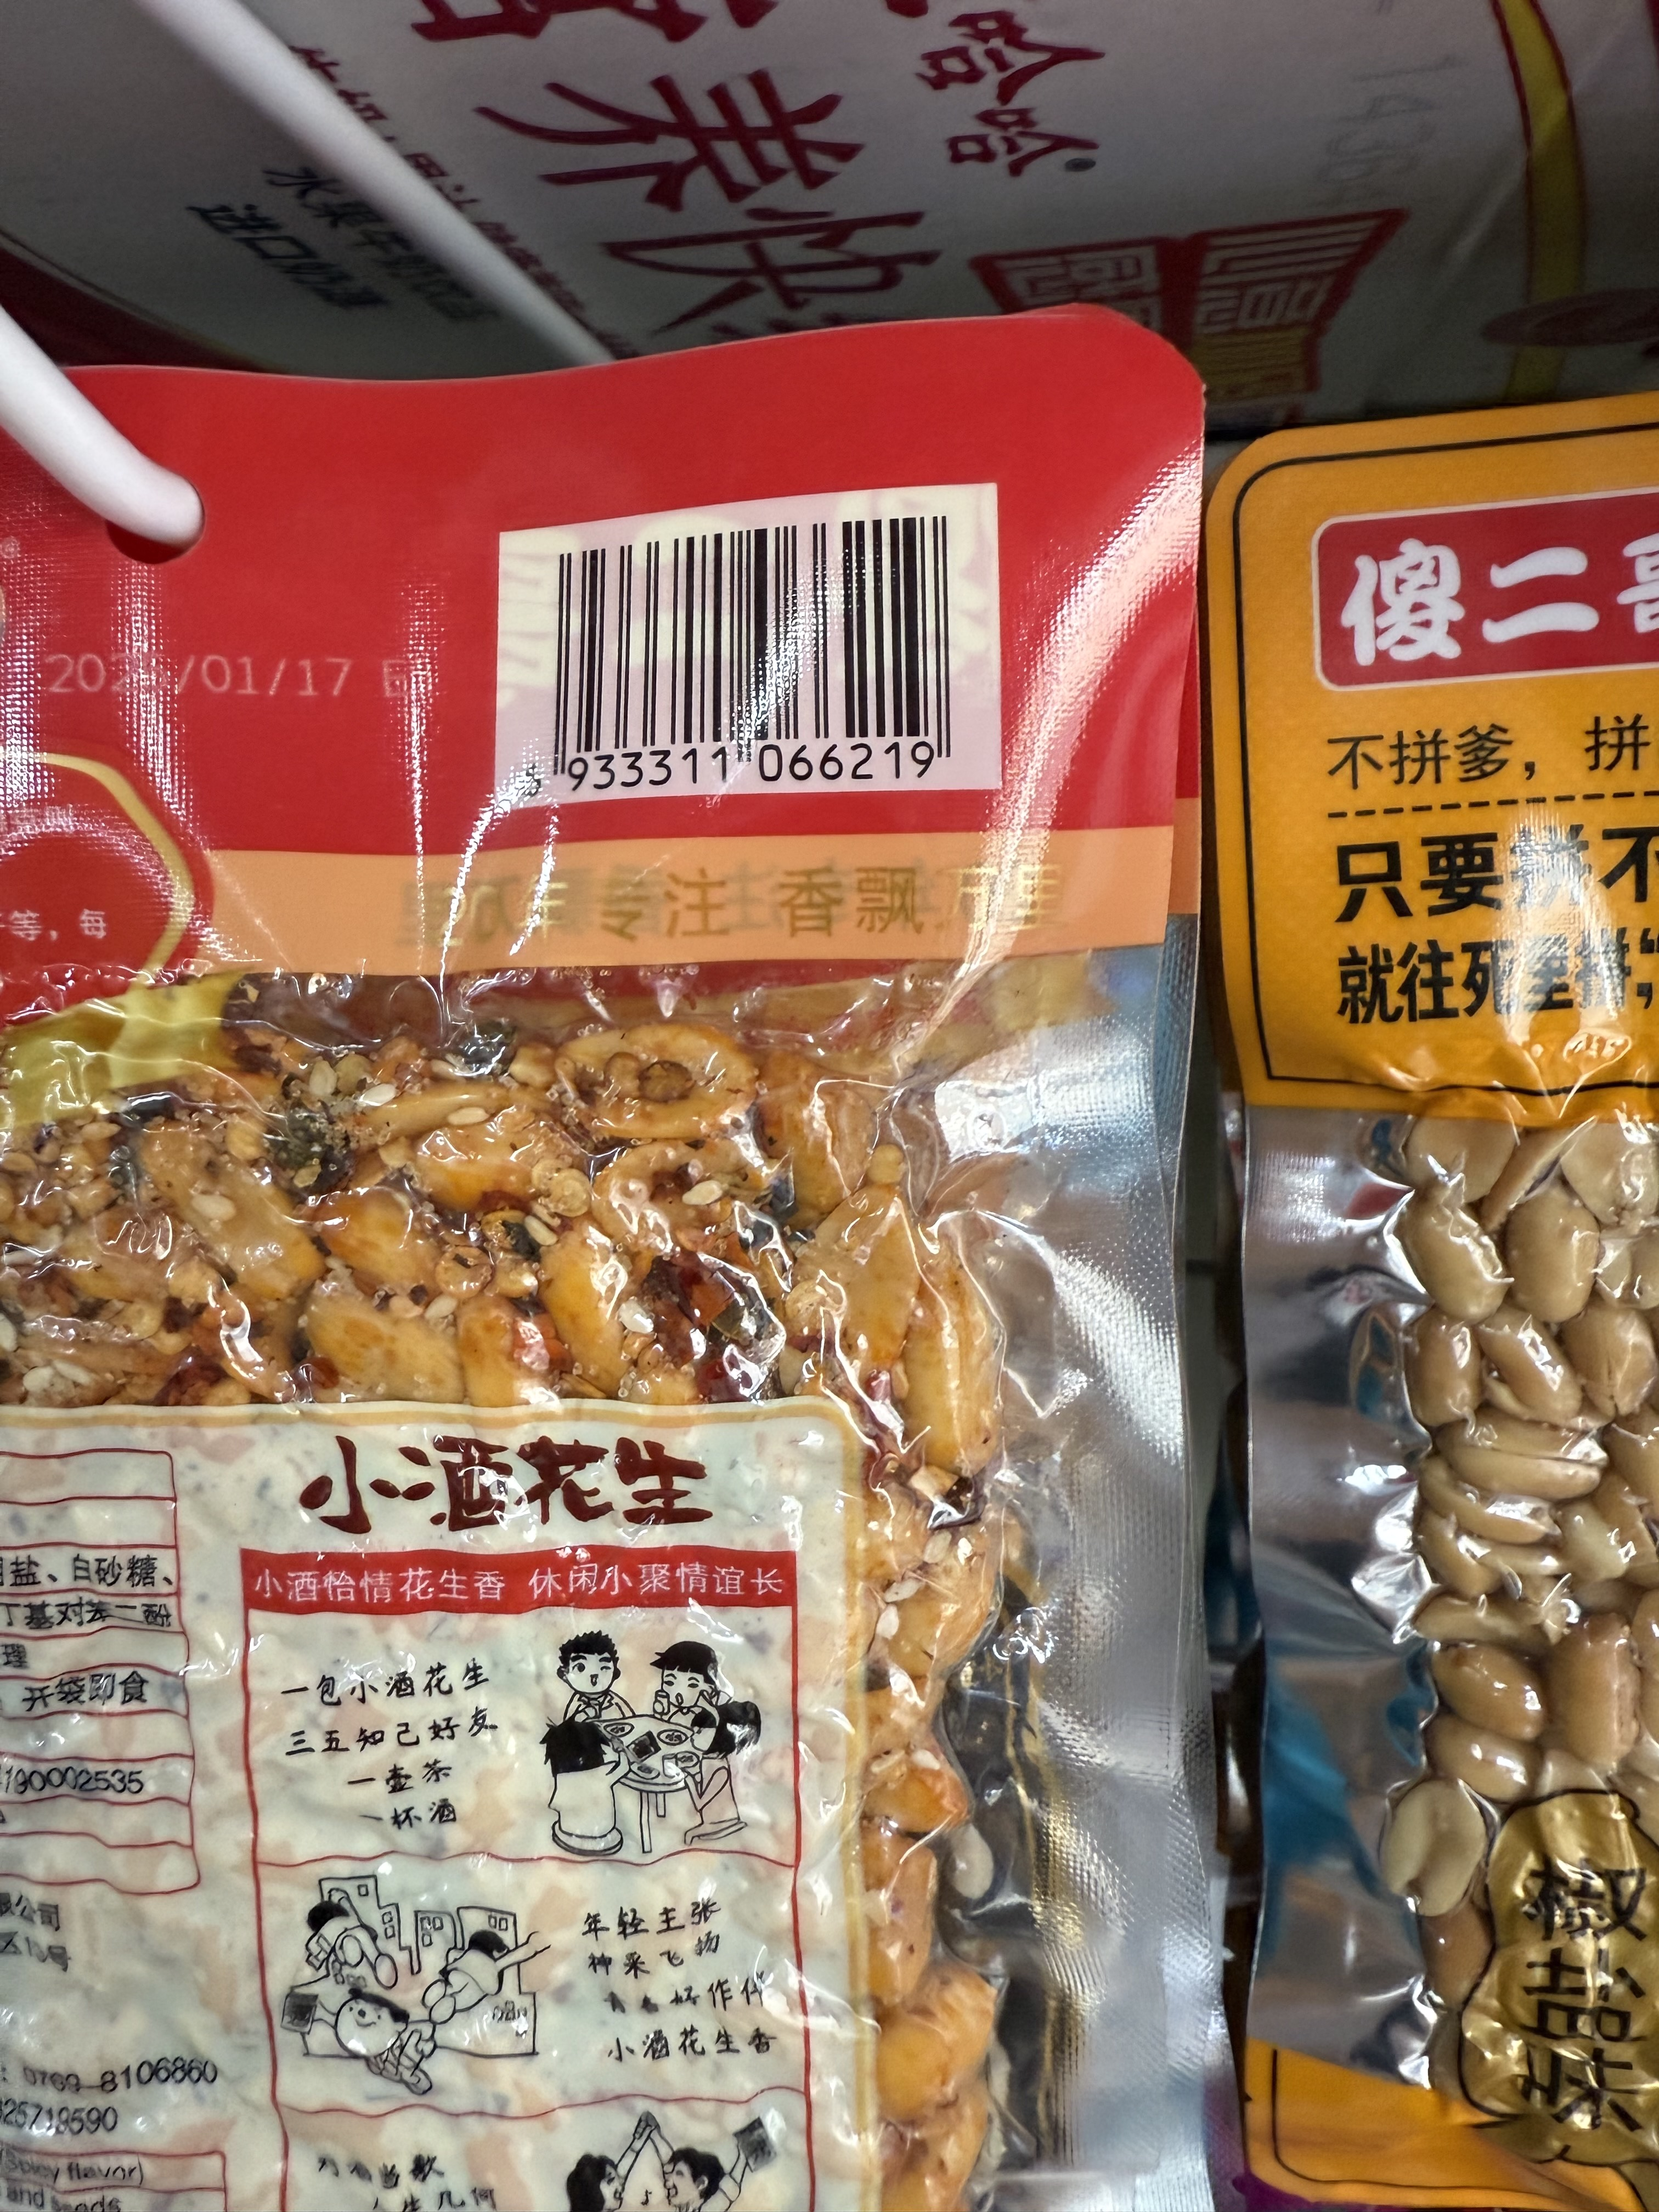bar: (547, 507, 964, 772)
